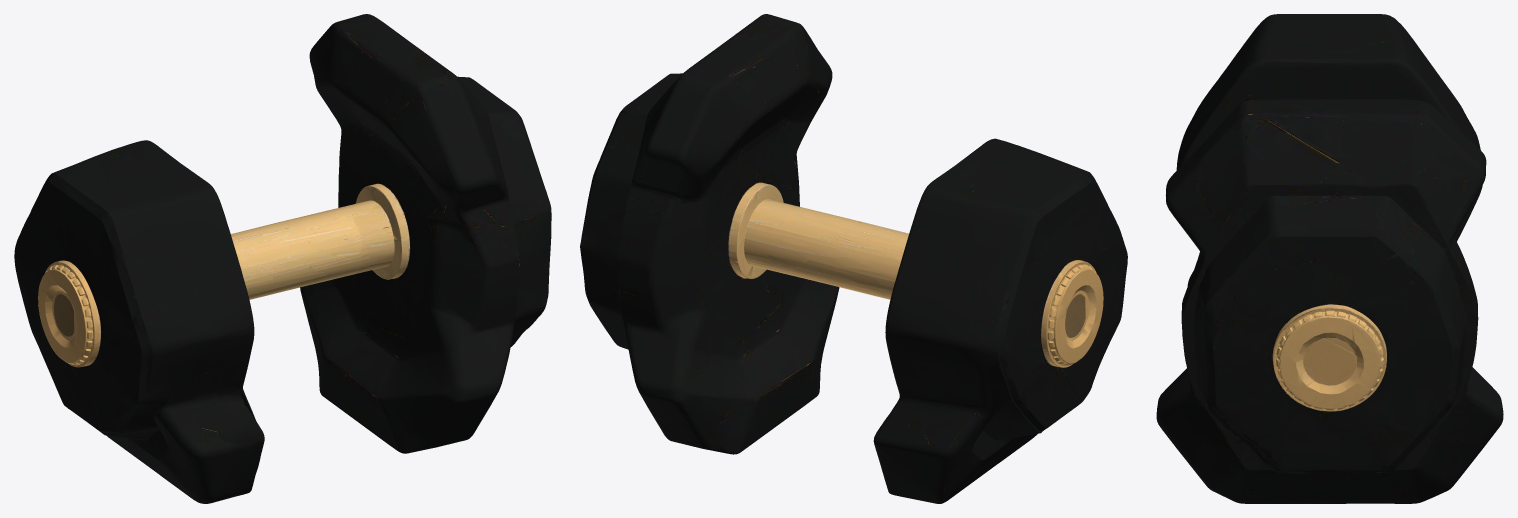
File: mancuerna.glb
The picture shows the model from 3 angles, left to right: view 1: azimuth 30°, elevation 25°; view 2: azimuth 150°, elevation 25°; view 3: azimuth 270°, elevation 25°; orthographic projection. The views are drawn at different scales.
Size of the model in its own units: 1.9 by 1.49 by 1.2.
1 material, 1 textured.
